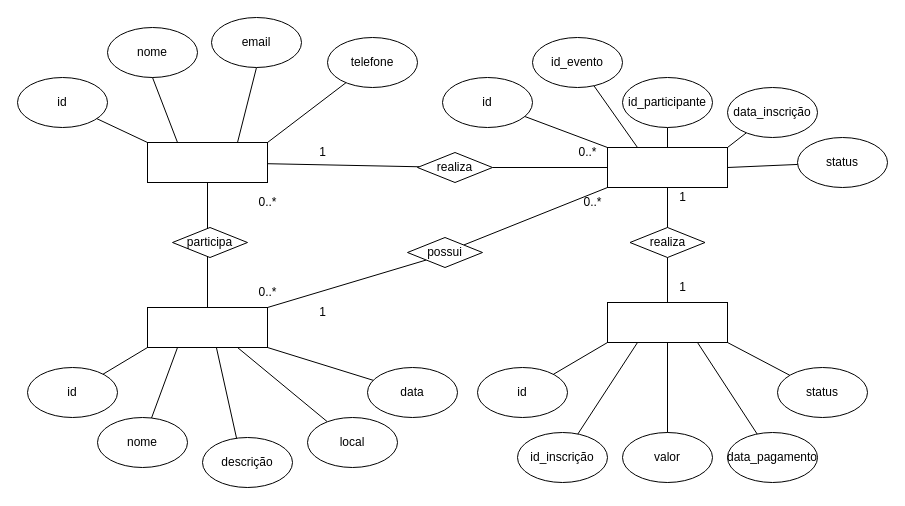
The diagram is 905 pixels wide and 506 high, and some of its shapes have lost their labels. Here are the shapes that lost their labels. From the top down, the centre of each, then its label:
point (207, 162): Participante
point (667, 167): Inscrição
point (207, 327): Evento
point (667, 322): Pagamento
